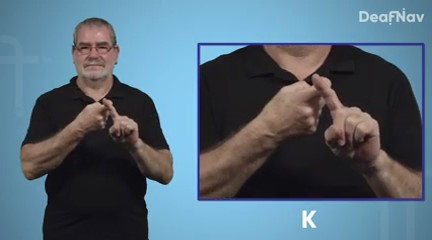K: (264, 69, 384, 169), (72, 91, 142, 155)
